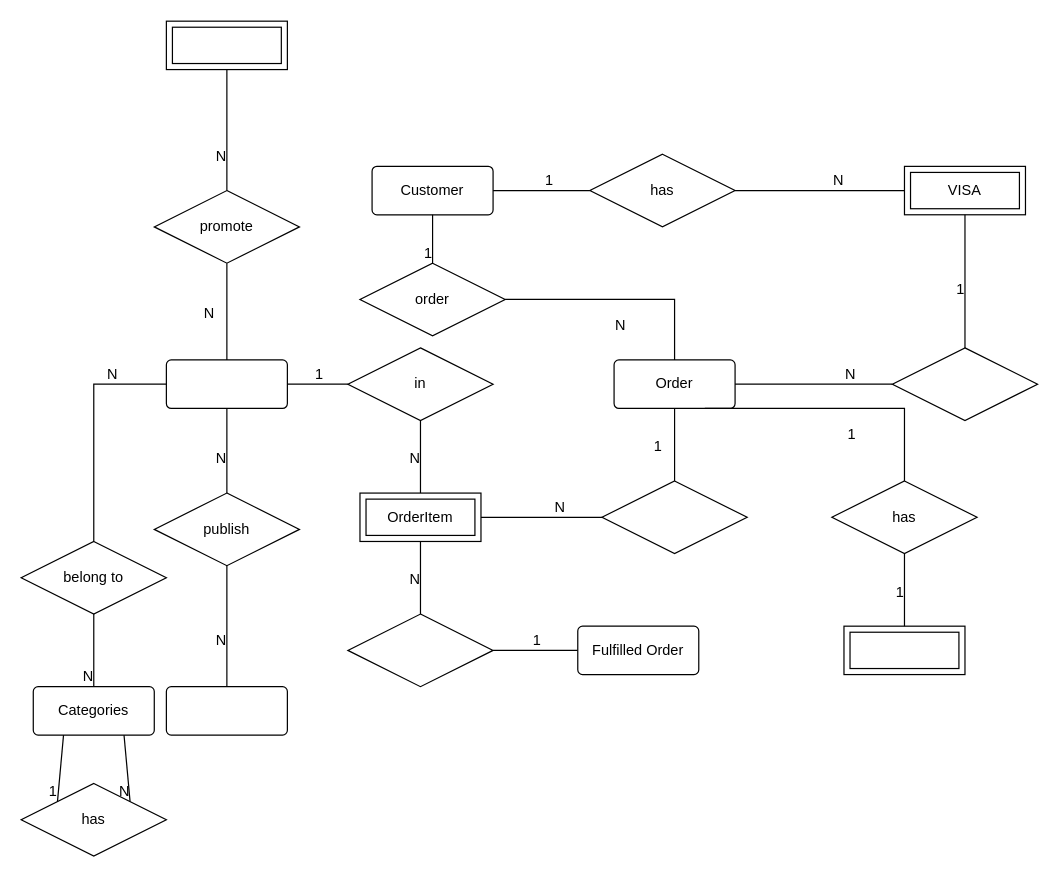
This 1059x877 diagram has some shape labels left out. The shapes that lost their labels are listed below. From the top down, each one's box as (x1, y1, x2, y2) in pixels, then its label:
(165, 20, 287, 70): Promotion
(165, 359, 287, 408): Book
(891, 347, 1038, 420): pay
(601, 480, 747, 554): contain
(347, 613, 493, 687): track
(843, 625, 965, 675): Price Of Order
(165, 685, 287, 735): Publisher
